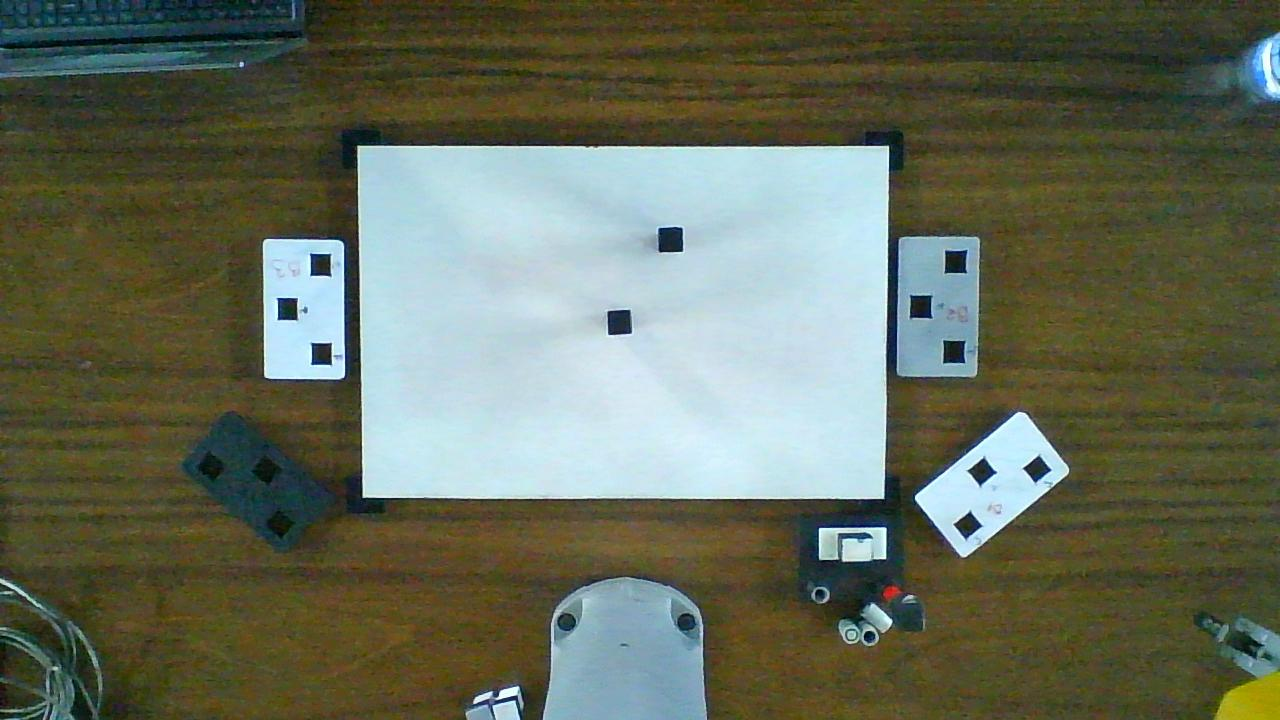peca_preta: (659, 229, 682, 251), (608, 312, 631, 333)
